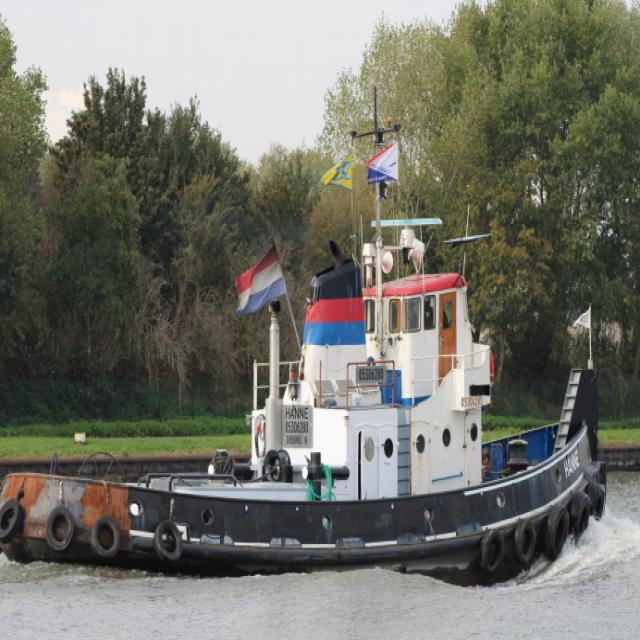tugboat: (1, 212, 613, 597)
